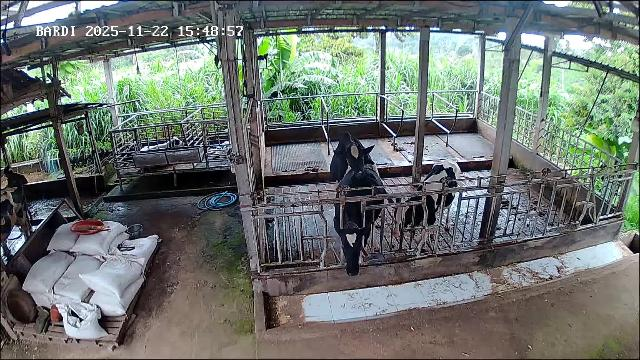mounting: (330, 131, 378, 193)
